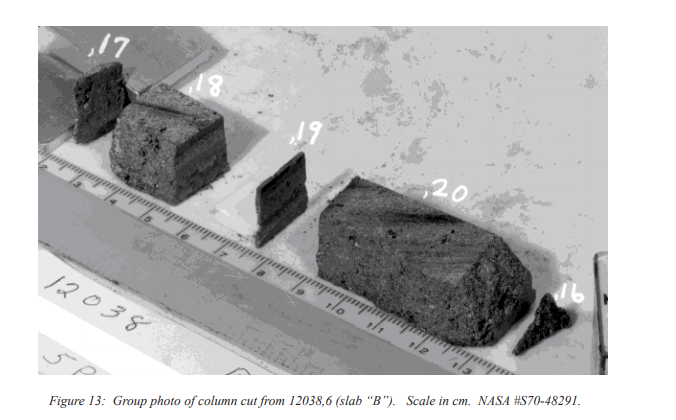Basalt: (321, 169, 526, 350), (76, 53, 230, 201)
